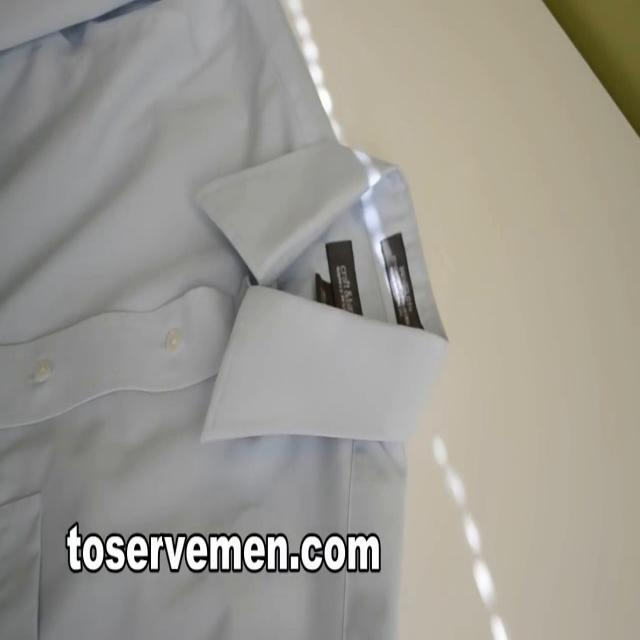Shirt: (0, 0, 451, 640)
